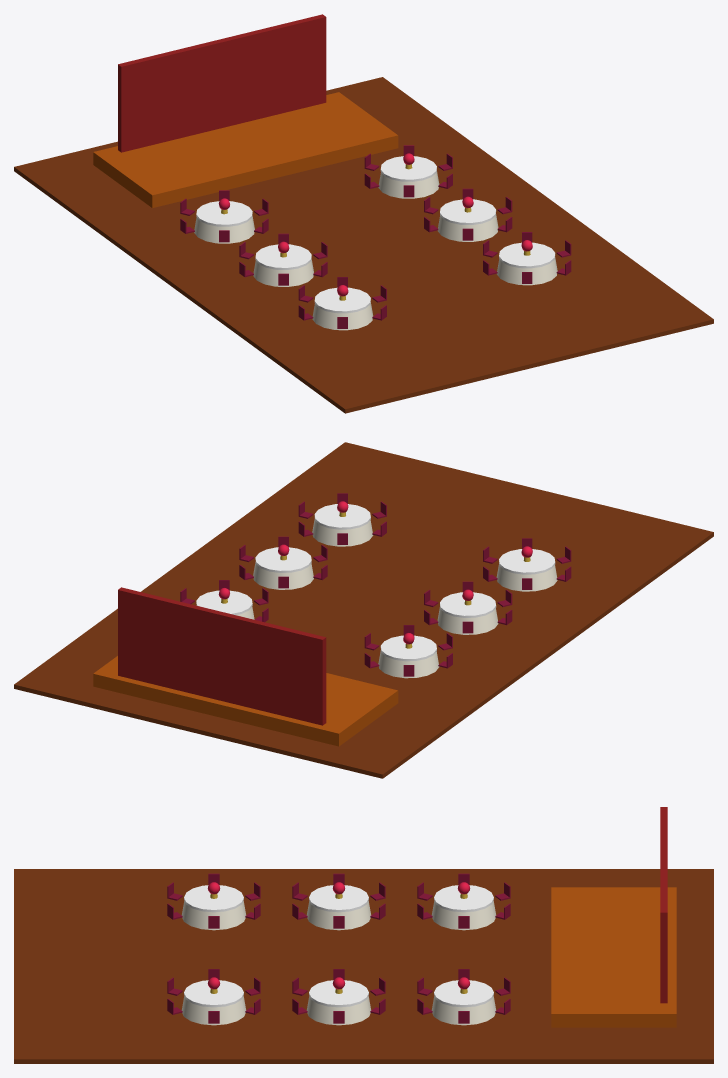
Rendered from room-generic.glb.
3 views of the same model, one above another, from view 1: azimuth 30°, elevation 25°; view 2: azimuth 150°, elevation 25°; view 3: azimuth 270°, elevation 25° (orthographic). The views are drawn at different scales.
Bounding box in the file's own units: 18 × 4.8 × 28.
